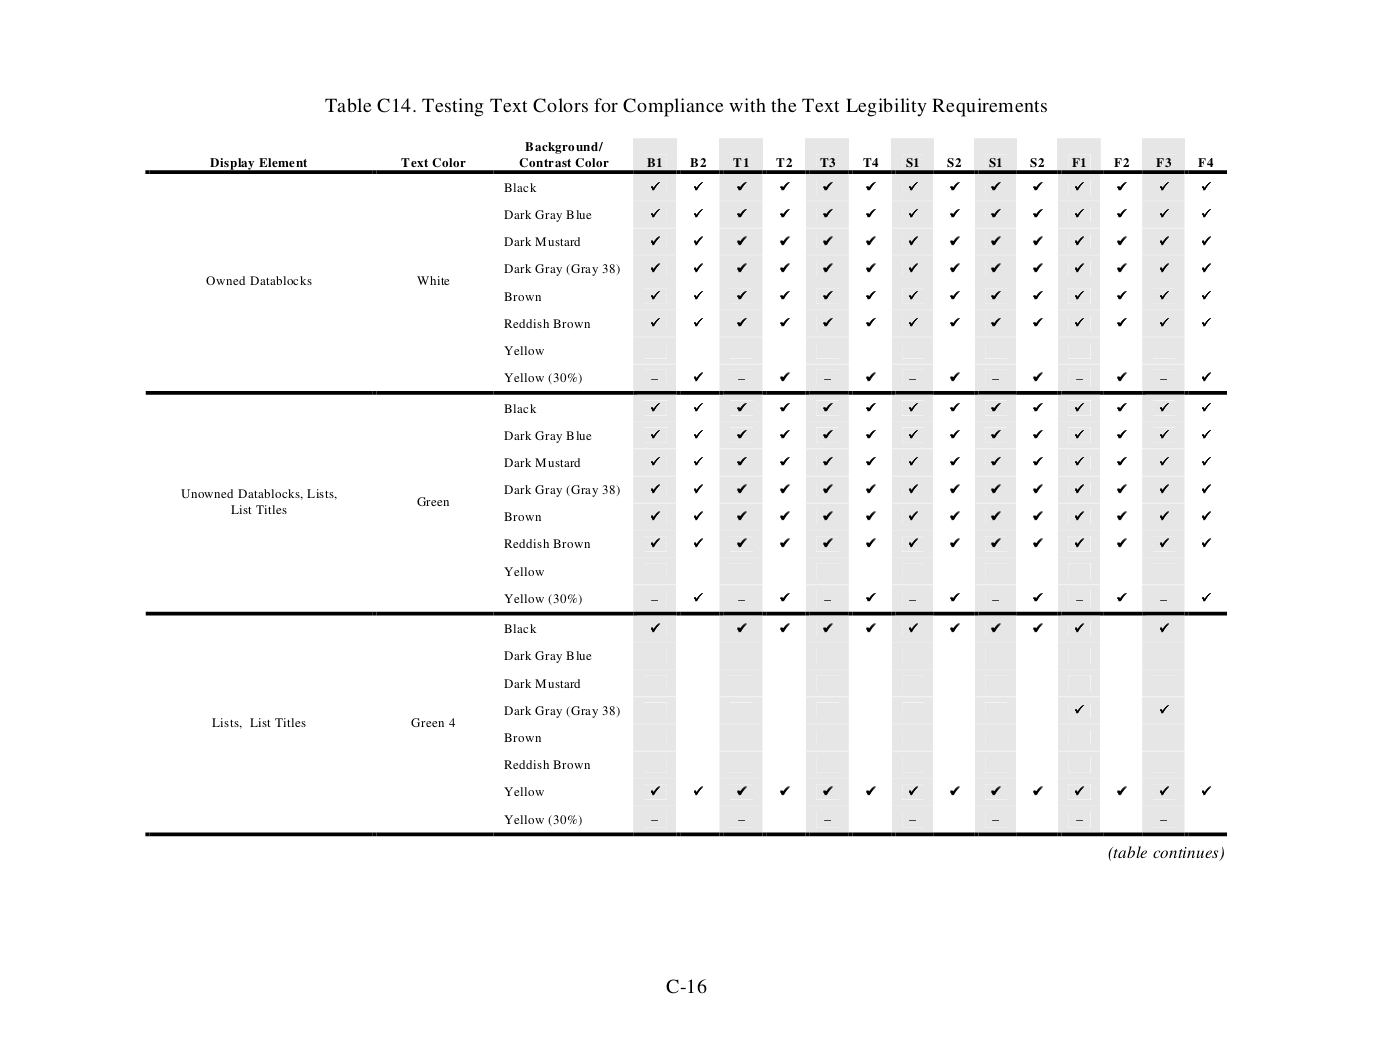Table: (145, 137, 1226, 837)
